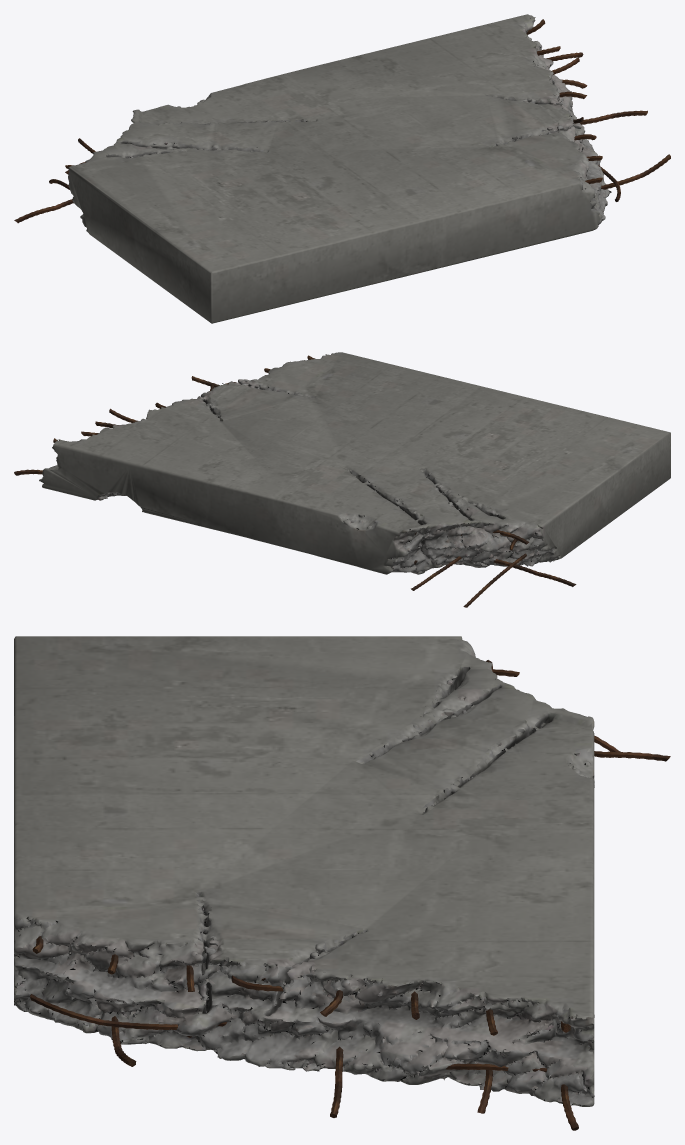
Rendered from concrete_slab_rebar.glb.
3 views of the same model, one above another, from view 1: azimuth 30°, elevation 25°; view 2: azimuth 150°, elevation 25°; view 3: azimuth 270°, elevation 25° (orthographic). The views are drawn at different scales.
Parts seen in each view (by area): view 1: concrete_slab_rebar, rebar; view 2: concrete_slab_rebar, rebar; view 3: concrete_slab_rebar, rebar.
Boxes of the visible parts, x1=… form: concrete_slab_rebar: x1=68, y1=14, x2=611, y2=323; rebar: x1=14, y1=19, x2=670, y2=223; concrete_slab_rebar: x1=39, y1=352, x2=670, y2=574; rebar: x1=14, y1=355, x2=576, y2=607; concrete_slab_rebar: x1=14, y1=636, x2=594, y2=1106; rebar: x1=30, y1=660, x2=670, y2=1130.
Size of the model in its own units: 2.87 by 0.287 by 1.75.
Materials: 2 (2 with a texture image).
